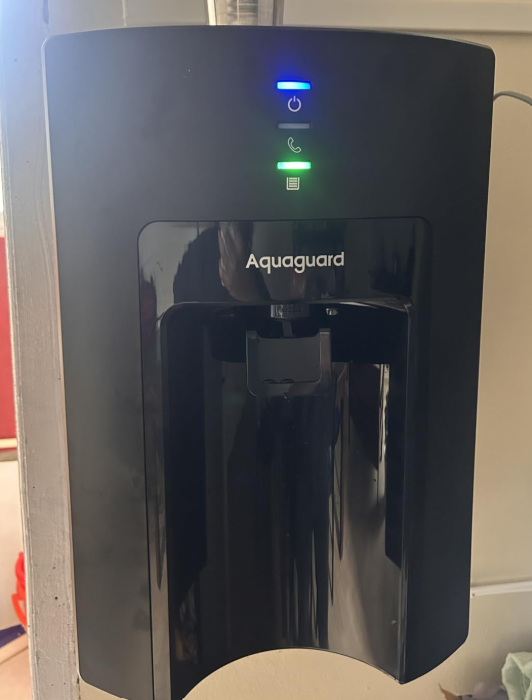water purifier: (31, 16, 499, 700)
